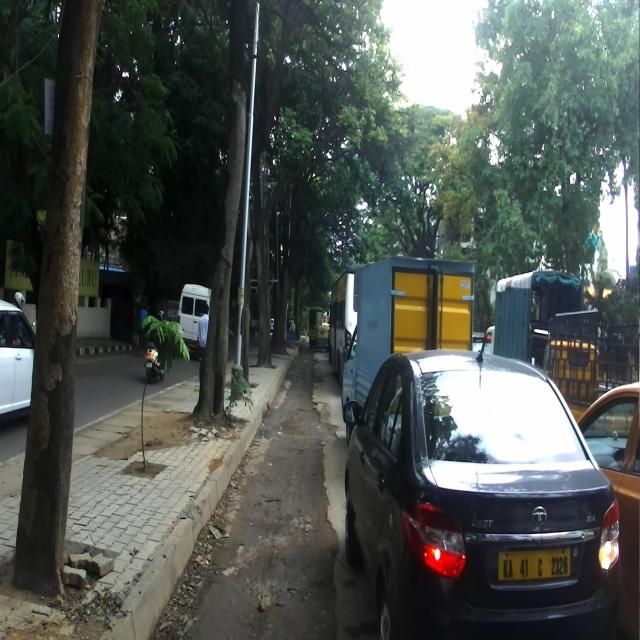car: (342, 344, 621, 640)
